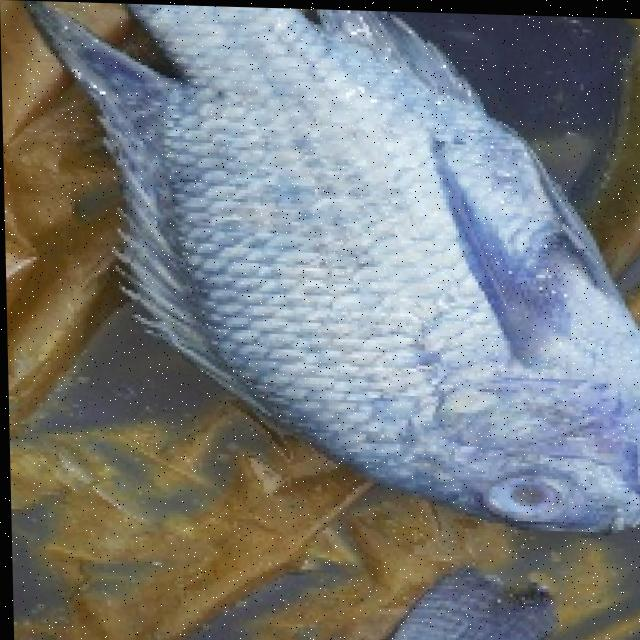Non-Fresh: (150, 34, 640, 533)
